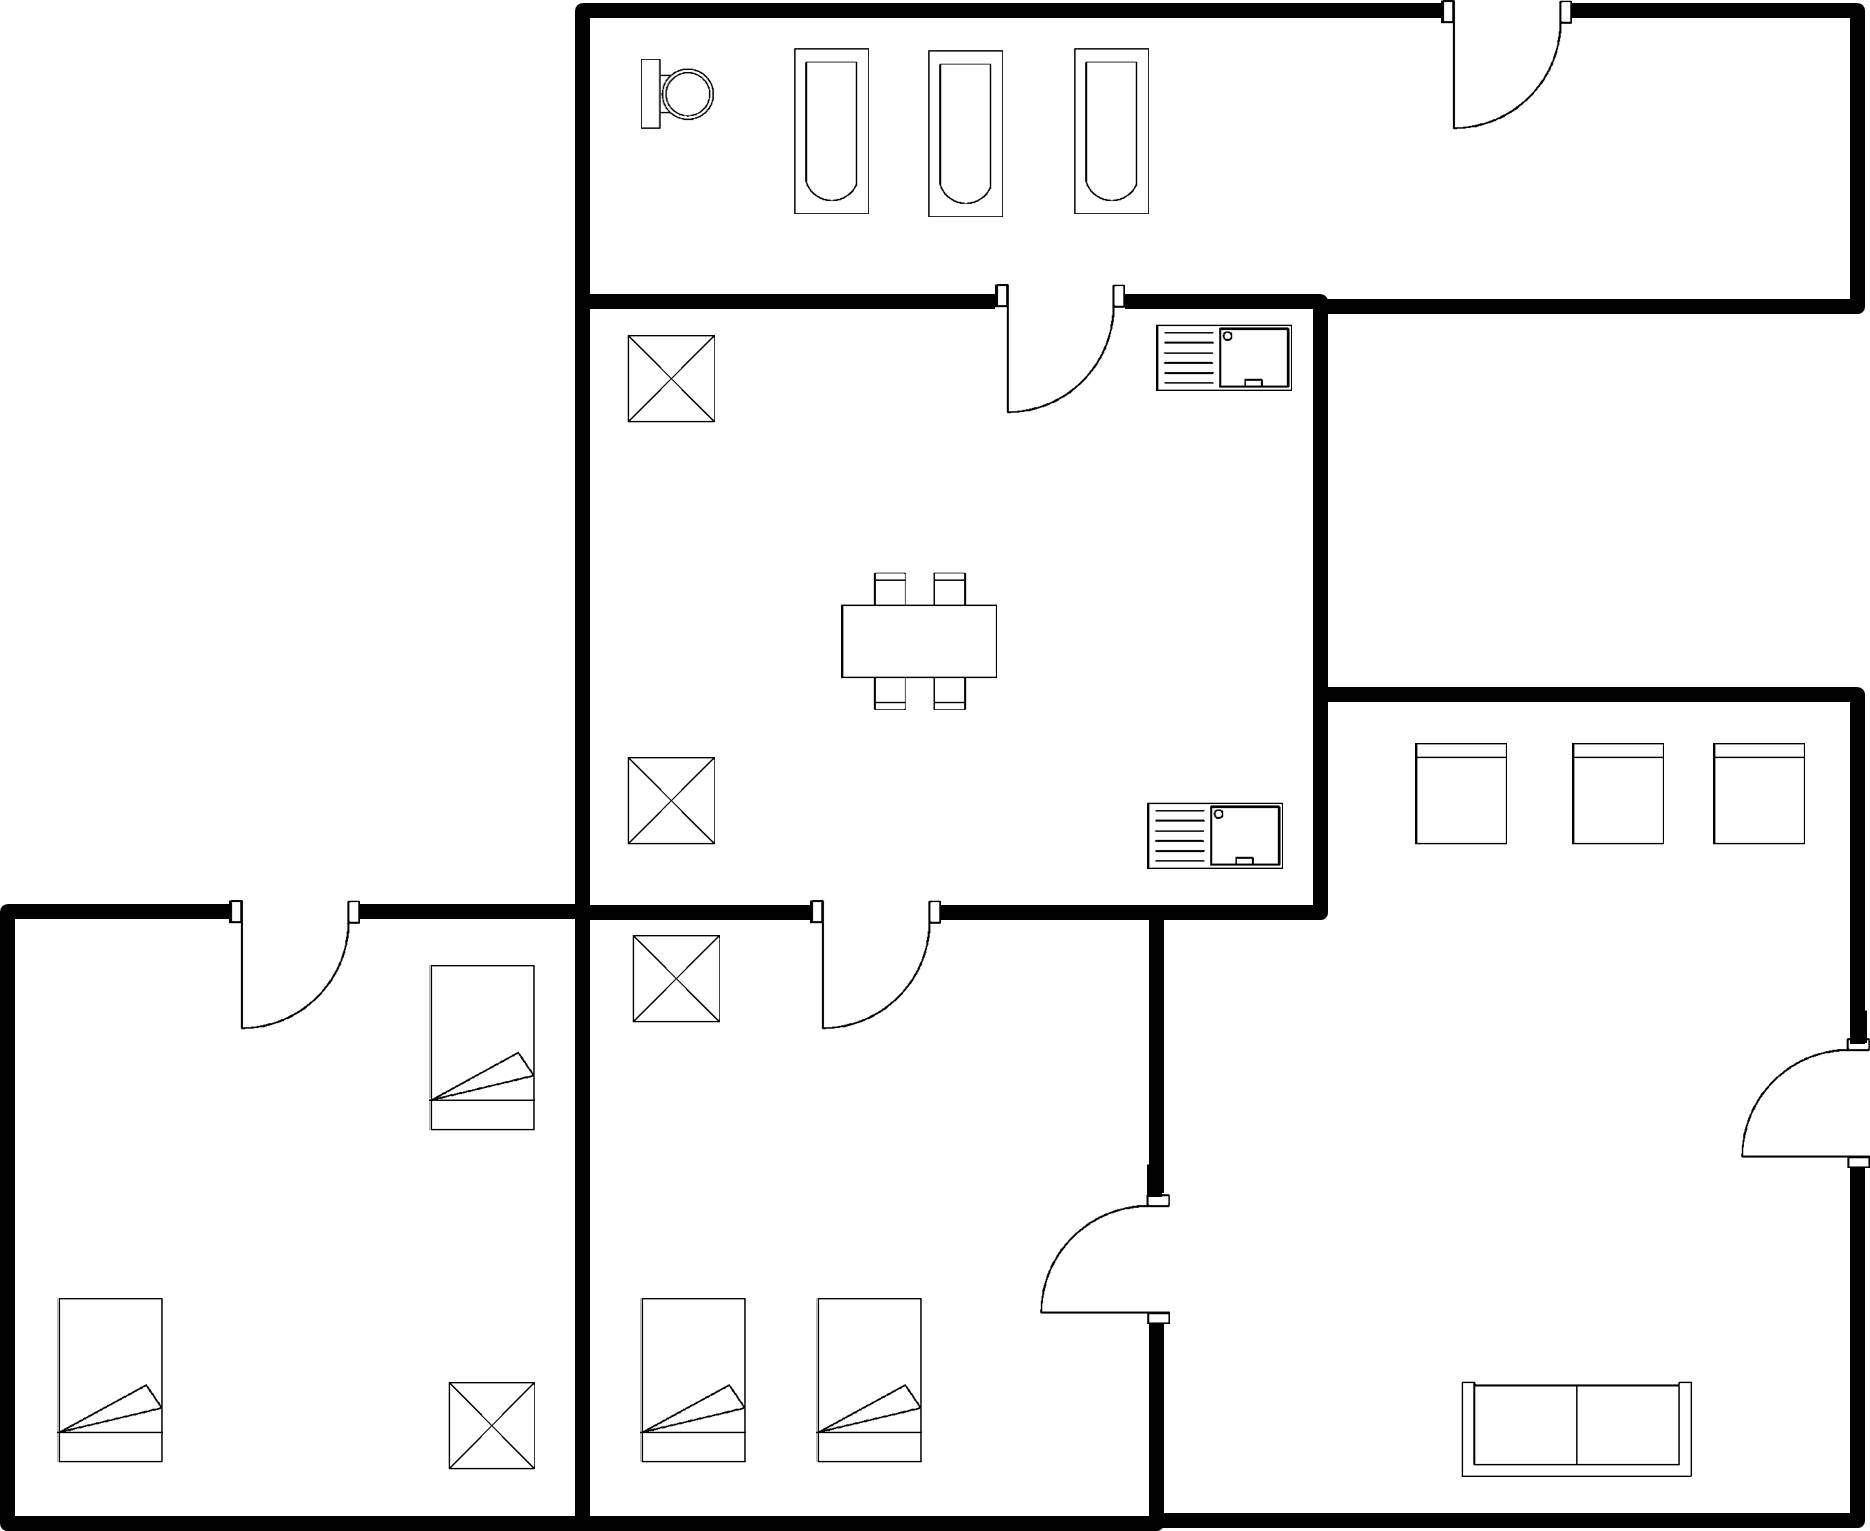bed: (416, 955, 546, 1144), (46, 1286, 174, 1473), (805, 1288, 934, 1474), (629, 1291, 758, 1474)
coffee_table: (614, 749, 728, 859), (620, 925, 728, 1035), (620, 322, 726, 435), (438, 1371, 544, 1479)
large_sink: (631, 43, 722, 144)
large_sofa: (1452, 1373, 1707, 1491)
sink: (1137, 794, 1295, 879), (1147, 316, 1301, 404)
small_sofa: (829, 561, 1005, 719), (1702, 731, 1817, 861), (1405, 734, 1516, 858), (1559, 738, 1671, 859)
tub: (787, 37, 877, 226), (922, 41, 1010, 229), (1064, 40, 1153, 223)
